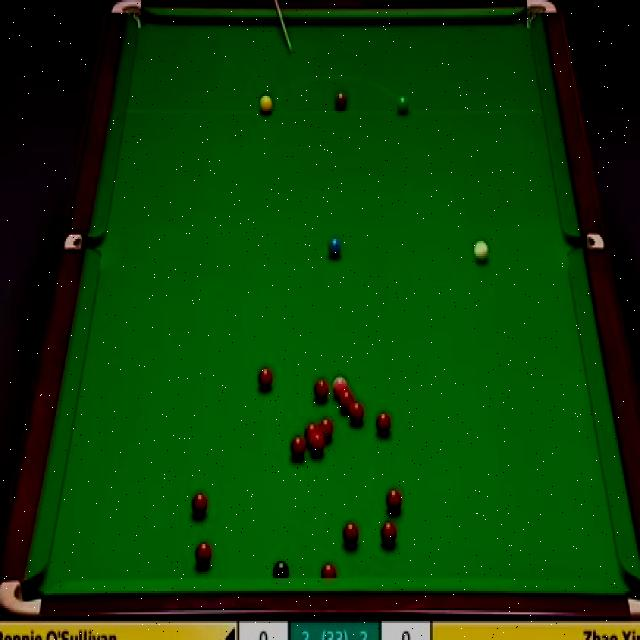black-ball: (273, 561, 291, 578)
blue-ball: (328, 238, 342, 256)
brown-ball: (335, 92, 347, 110)
green-ball: (395, 92, 410, 116)
pink-ball: (332, 375, 348, 397)
red-ball: (384, 488, 403, 516), (343, 520, 360, 549), (310, 379, 330, 402), (195, 543, 212, 568), (190, 492, 209, 514), (381, 521, 397, 547), (257, 364, 274, 388), (347, 400, 364, 424), (320, 416, 338, 438), (290, 434, 305, 460), (376, 411, 392, 435), (310, 432, 324, 453), (339, 389, 354, 408), (306, 423, 320, 443), (319, 563, 339, 577)
white-ball: (473, 240, 491, 265)
yellow-ball: (260, 94, 272, 115)
